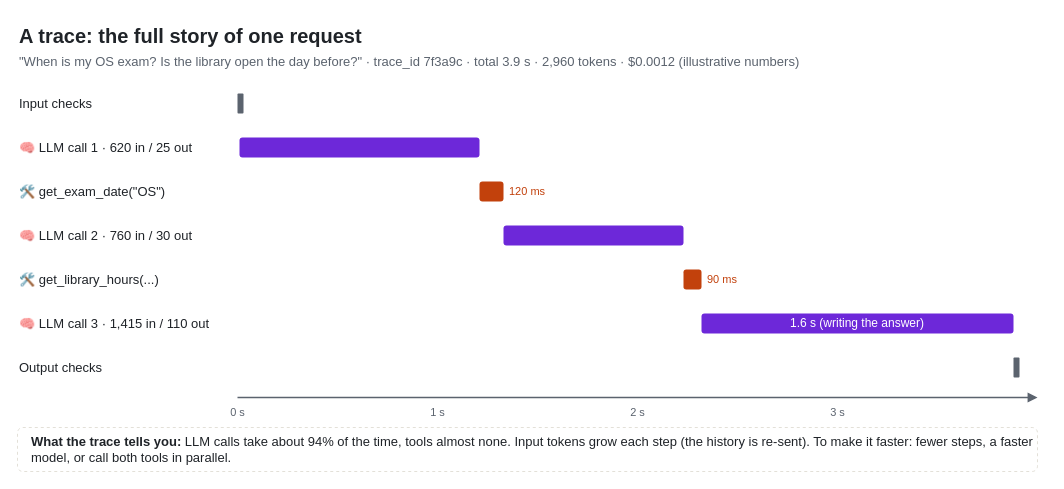
The diagram is 1064 pixels wide and 489 high, and some of its shapes have lost their labels. The centre of each missing label's shape, as x and y in pixels:
0.9 s: [593,235]
1.2 s: [359,147]
